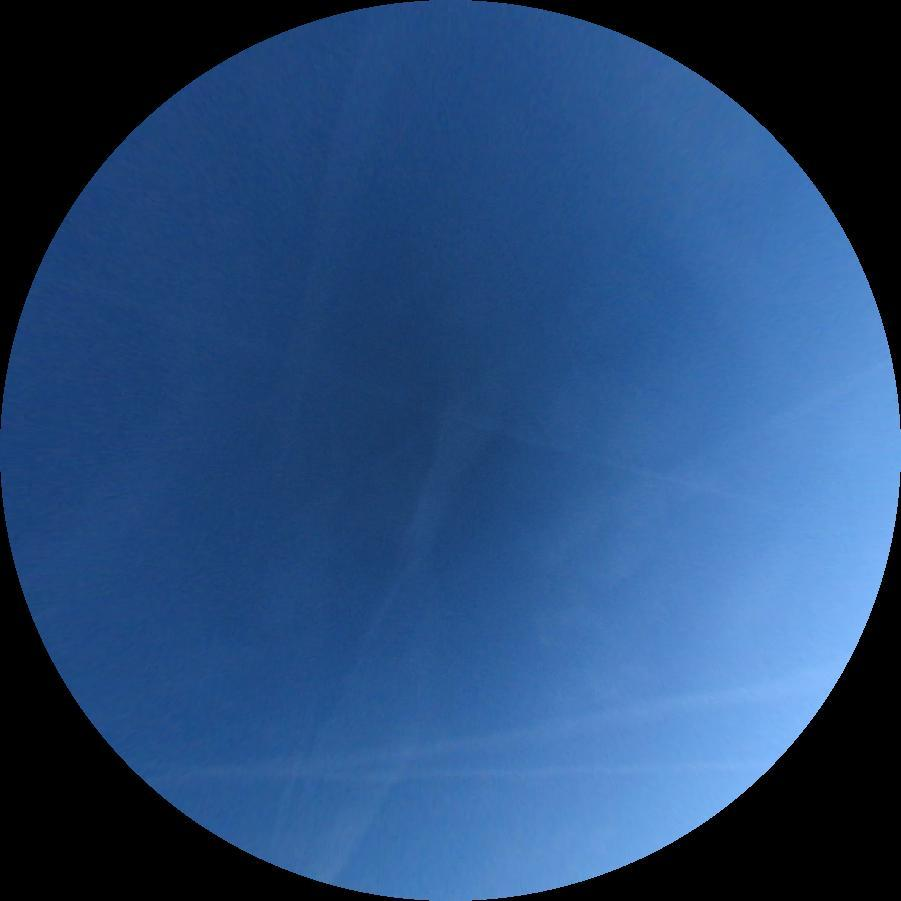contrail veryold: (43, 265, 792, 531), (261, 335, 575, 896), (235, 1, 413, 537), (137, 672, 836, 805), (146, 757, 774, 796)
